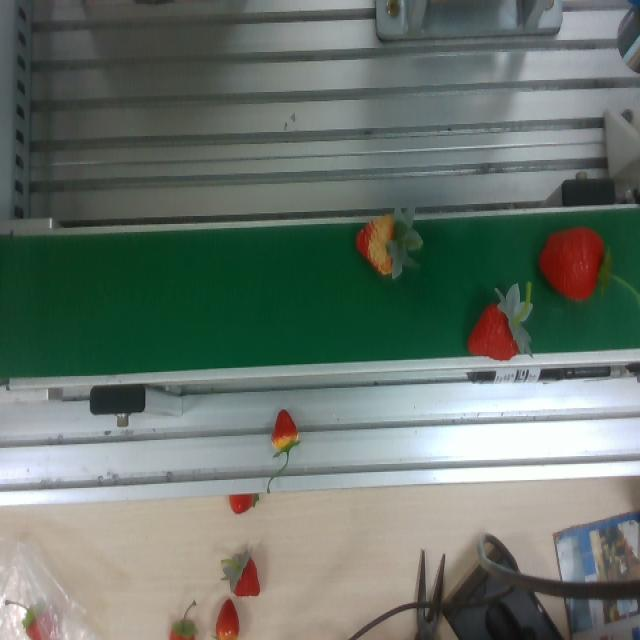Large Ripe Strawberry: (537, 224, 608, 304)
Moldy Strawberry: (350, 209, 433, 278)
Small Ripe Strawberry: (464, 295, 526, 365)
conveyor: (6, 205, 638, 373)
